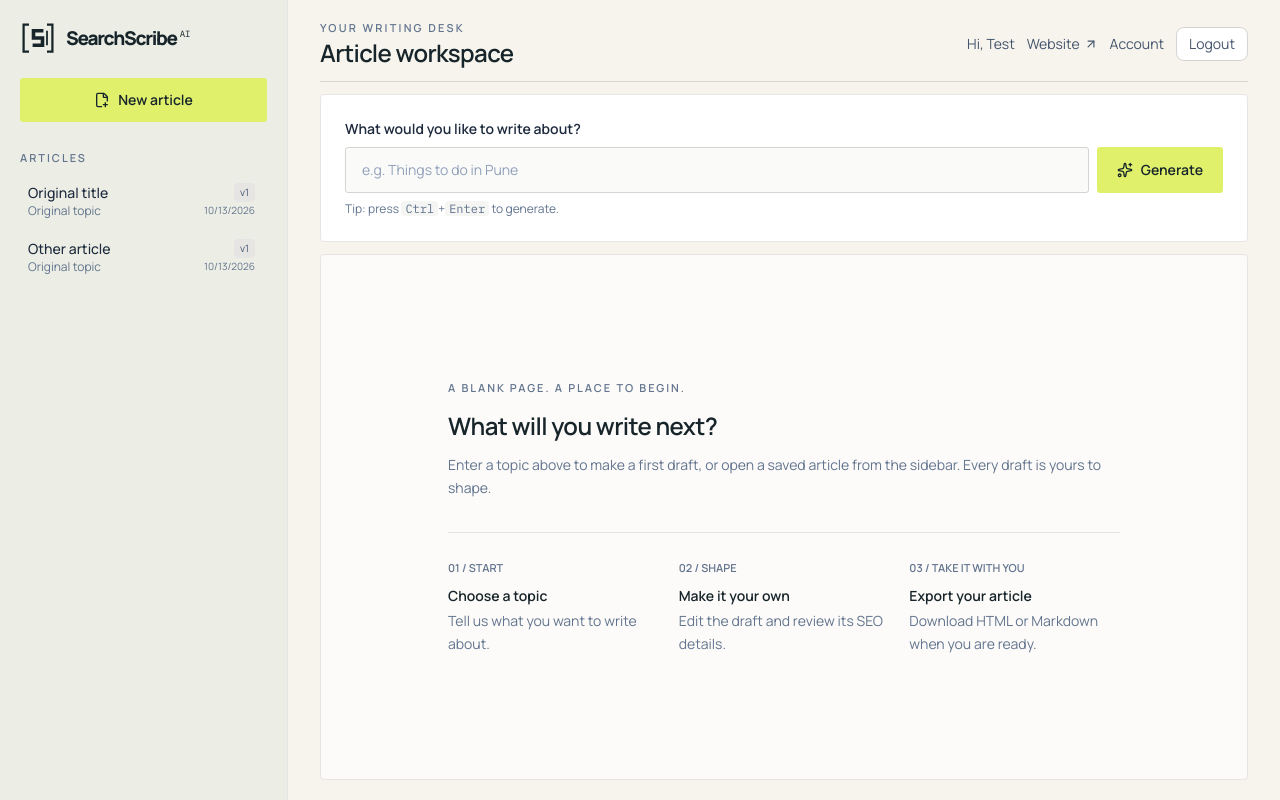
Test case: workspace unsaved edits › switches views without warning when the open editor is unchanged
What coordinates should you click on to do the following:
click the button "Original title v1 Original topic 10/13/2026"
I would click on:
 (142, 200)
Its box is [20, 174, 263, 226].
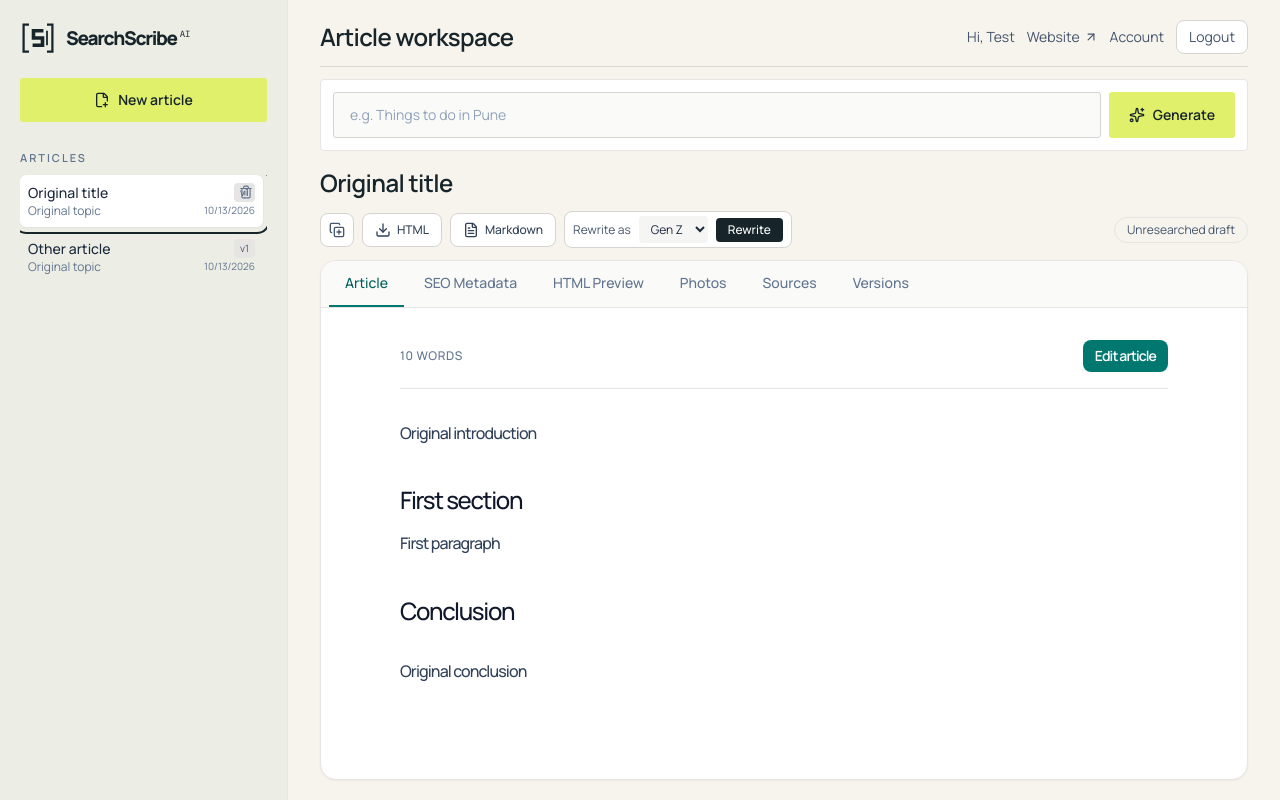
What coordinates should you click on to do the following:
click the button "Edit article"
I would click on:
 (1125, 356)
Its box is [1083, 340, 1168, 372].
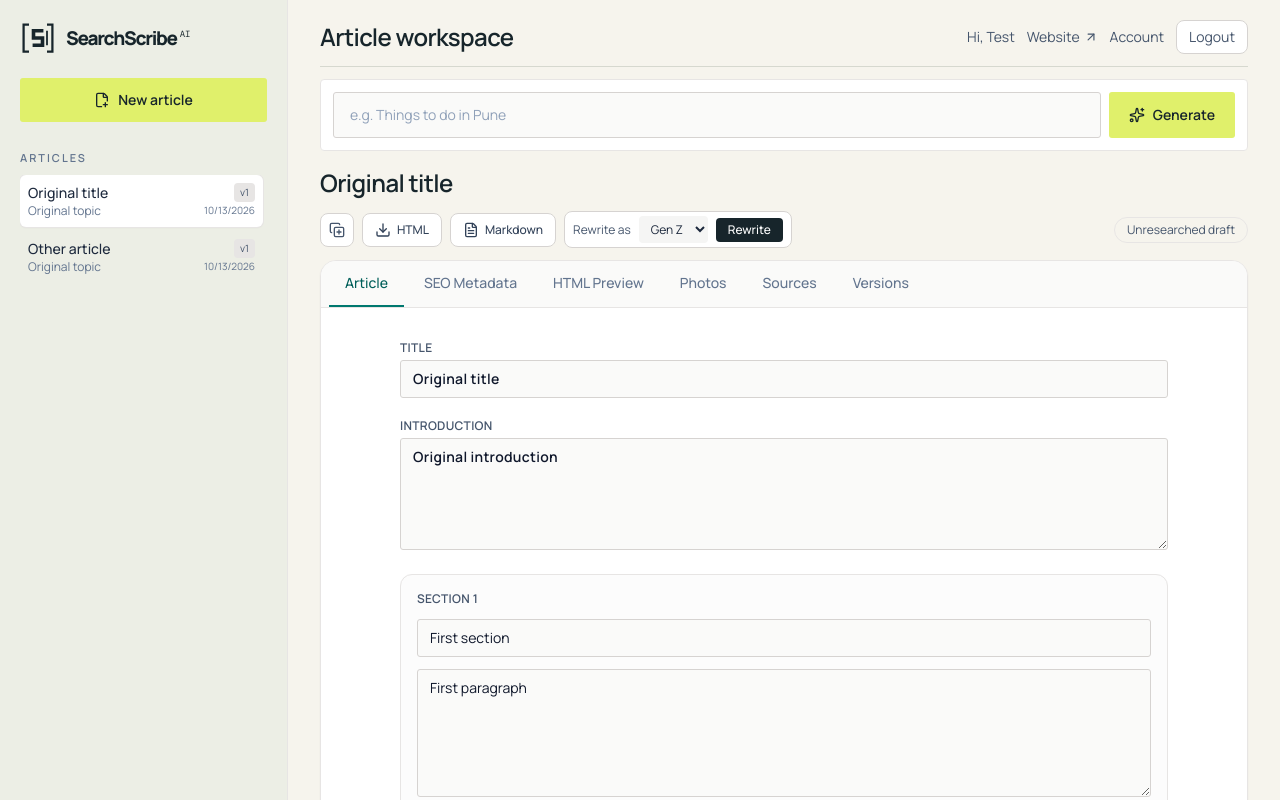
What coordinates should you click on to do the following:
click the tab "SEO Metadata"
I would click on:
 (470, 284)
Its box is [408, 261, 533, 307].
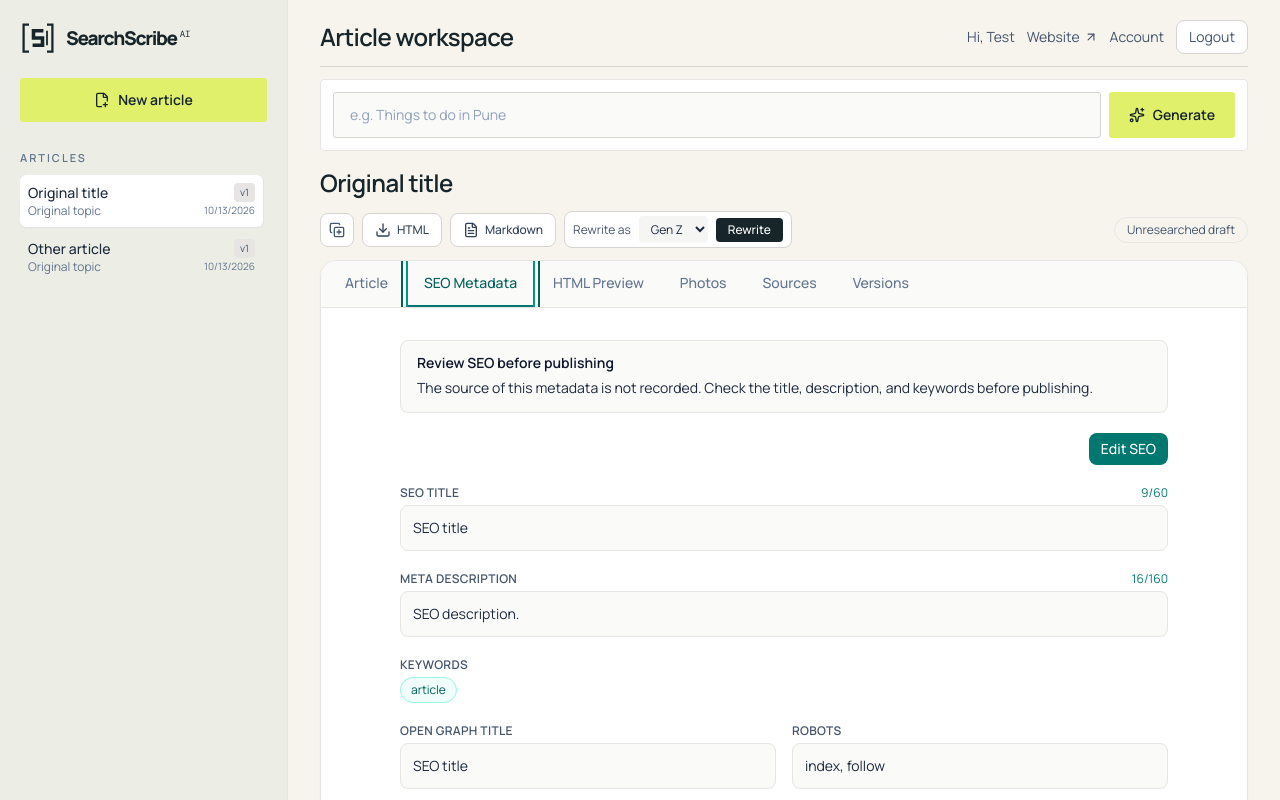
expect the button "Edit SEO" is shown: met, box [1089, 433, 1168, 465]
What coordinates should you click on to do the following:
click the tab "Article"
I would click on:
 (366, 284)
Its box is [329, 261, 404, 307].
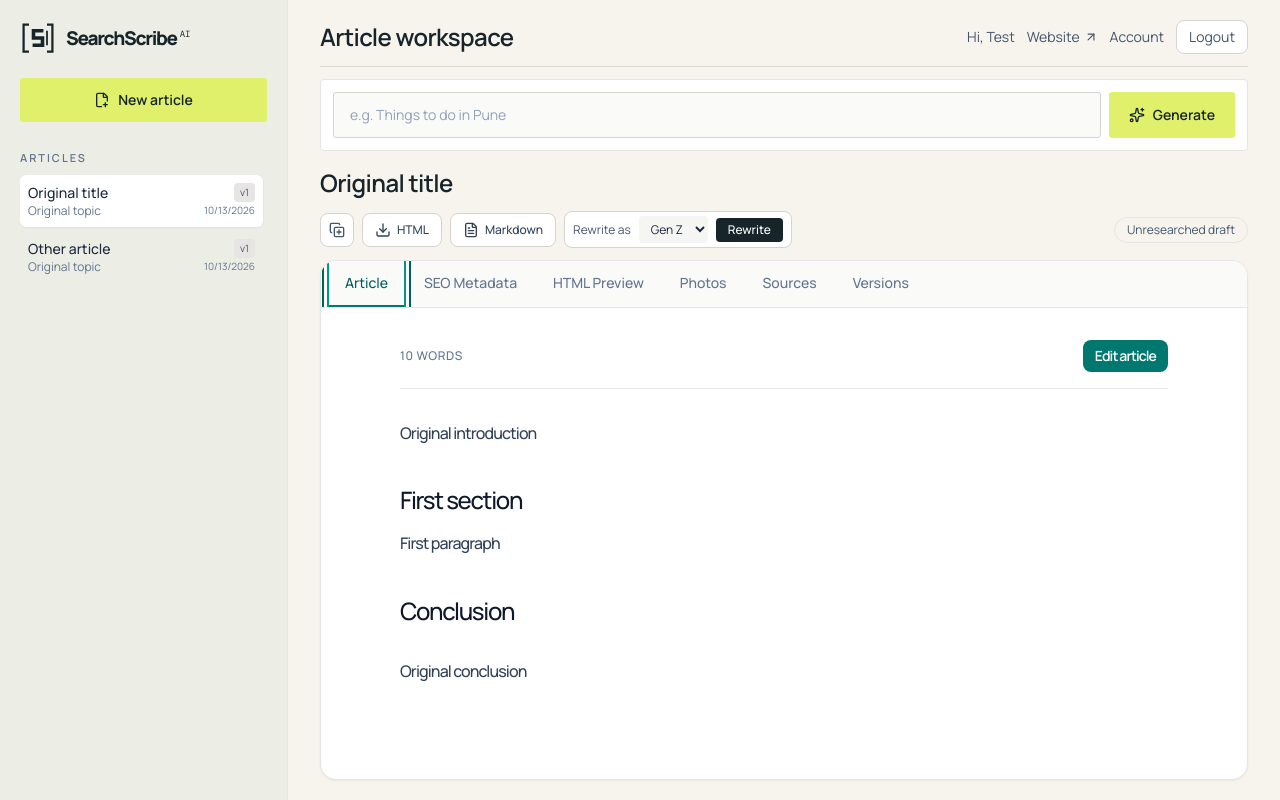
expect the button "Edit article" is shown: met, box [1083, 340, 1168, 372]
